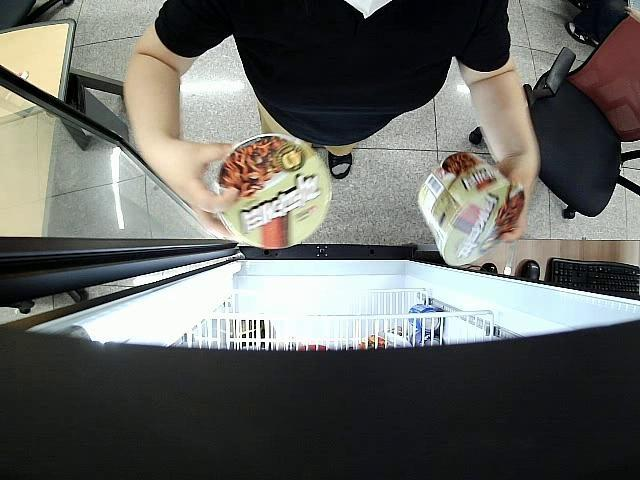03_chapagetti_L: (214, 134, 331, 247), (418, 151, 526, 266)
